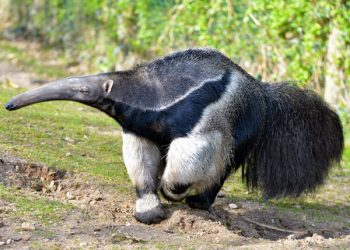TamanduaBandeira: (3, 45, 344, 226)
